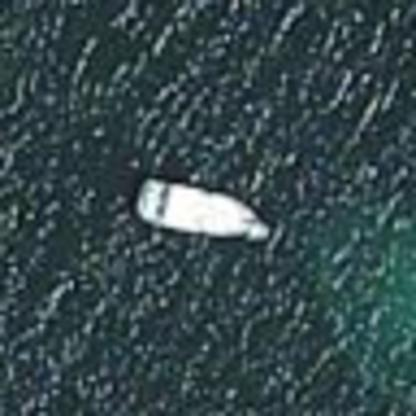ship: (124, 160, 280, 263)
